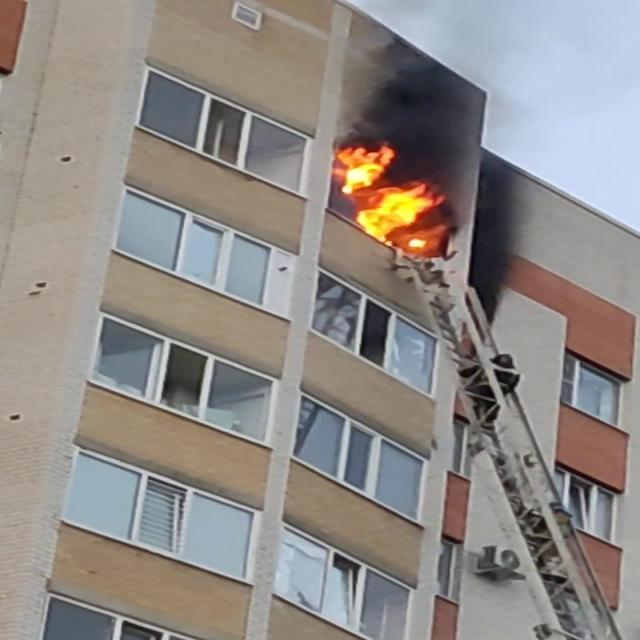Fire: (331, 139, 448, 251)
